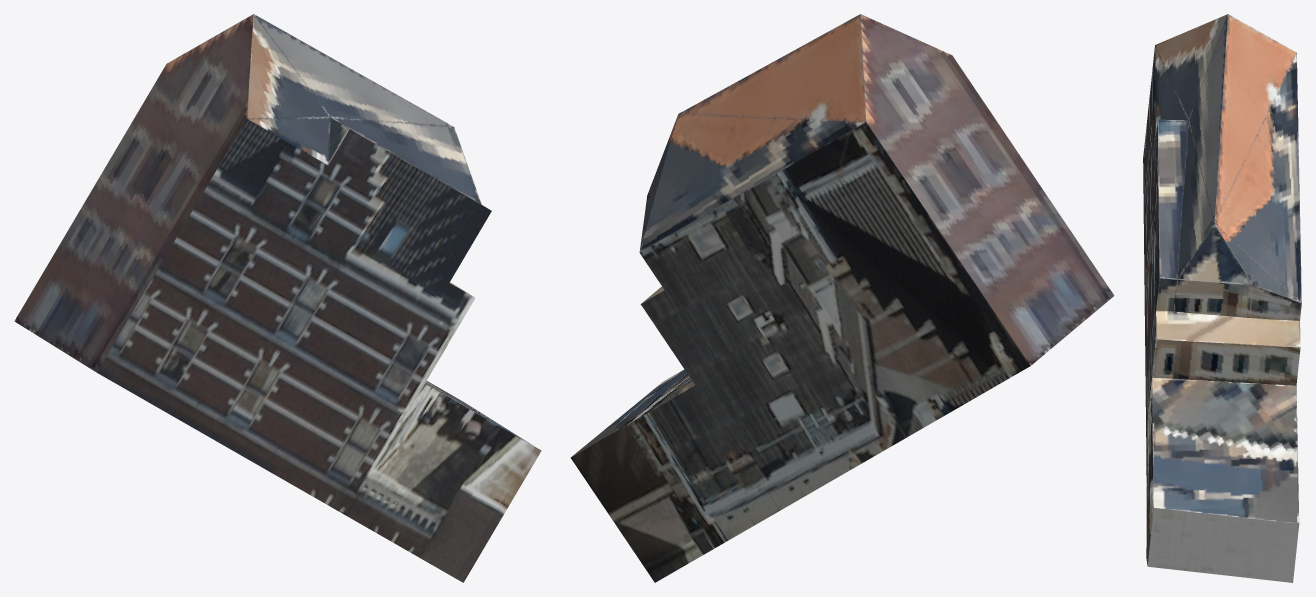
3 renders of one model, left to right at view 1: azimuth 30°, elevation 25°; view 2: azimuth 150°, elevation 25°; view 3: azimuth 270°, elevation 25°, orthographic. The views are drawn at different scales.
Visible parts, largest first — view 1: BAG_0599100000671567 (×5); view 2: BAG_0599100000671567 (×3); view 3: BAG_0599100000671567 (×4).
Boxes of the visible parts, box(x1,y1,x2,y2) form: BAG_0599100000671567 (×5): box(14, 14, 541, 582); BAG_0599100000671567 (×3): box(570, 14, 1114, 582); BAG_0599100000671567 (×4): box(1143, 14, 1301, 582).
Size of the model in its own units: 18.42 by 22.62 by 6.52.
5 materials, 5 textured.
